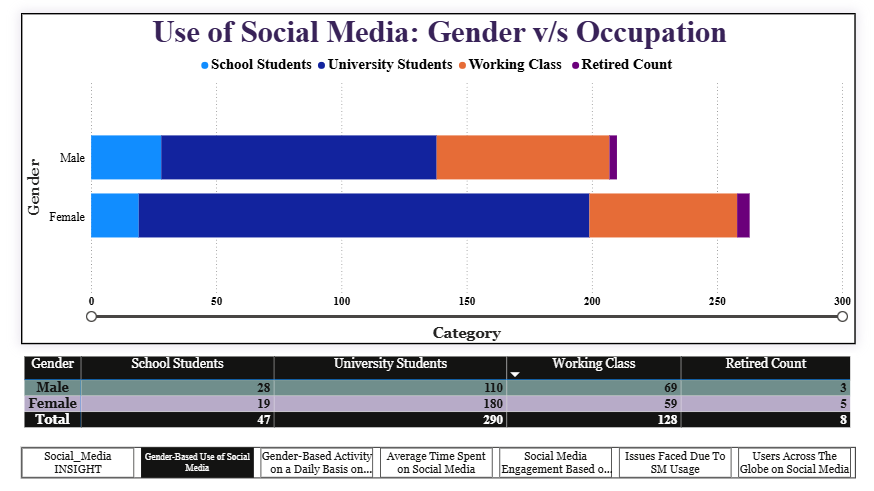

The page's visual inventory and layout, read from the dashboard file:
{"tool":"powerbi","page":{"name":"Gender-Based Use of Social Media","canvas":[1280,720],"ordinal":1},"visuals":[{"type":"barChart","title":"Use of Social Media: Gender v/s Occupation","fields":{"Category":["Age_v_s_Usage.Gender"],"Y":["Age_v_s_Usage.School Students Count","Age_v_s_Usage.Uni Students Count","Age_v_s_Usage.Working Class Count","Age_v_s_Usage.Retired Count"]},"box":[38.3,26.7,1201.7,476.7],"z":0},{"type":"pivotTable","title":"Use of Social Media: Gender v/s Occupation","fields":{"Rows":["Age_v_s_Usage.Gender"],"Values":["Age_v_s_Usage.School Students Count","Age_v_s_Usage.Uni Students Count","Age_v_s_Usage.Working Class Count","Age_v_s_Usage.Retired Count"]},"box":[38.3,516.7,1201.7,158.3],"z":1000},{"type":"pageNavigator","box":[38.3,651.7,1201.7,45],"z":2000}]}

Visuals, with their boxes in screenshot pixels (x1, y1, x2, y2), scaled from the page's 1280x720 canvas onto the 874x491 screenshot:
"Use of Social Media: Gender v/s Occupation" barChart: (26, 18, 847, 343)
"Use of Social Media: Gender v/s Occupation" pivotTable: (26, 352, 847, 460)
pageNavigator: (26, 444, 847, 475)
